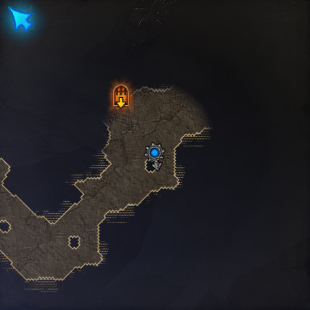Exit: (111, 83, 131, 109)
